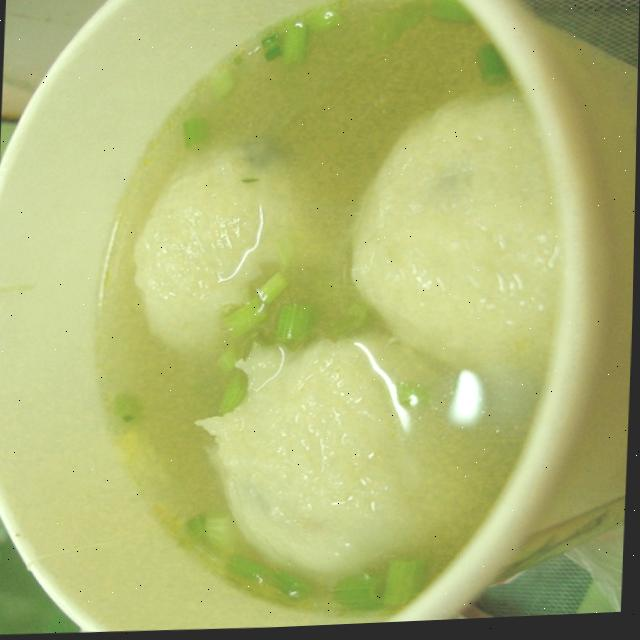熟制海鲜: (14, 11, 626, 639)
